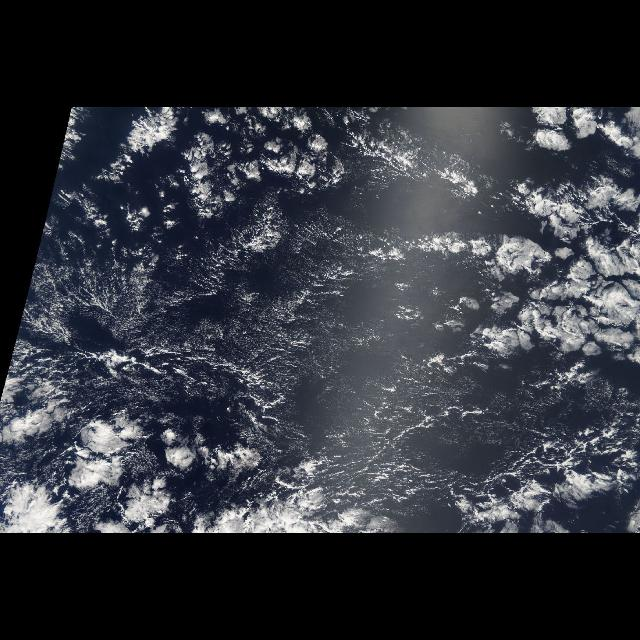Flower: (4, 371, 406, 534), (413, 108, 639, 382), (45, 109, 369, 241)
Sugar: (0, 236, 632, 504)
